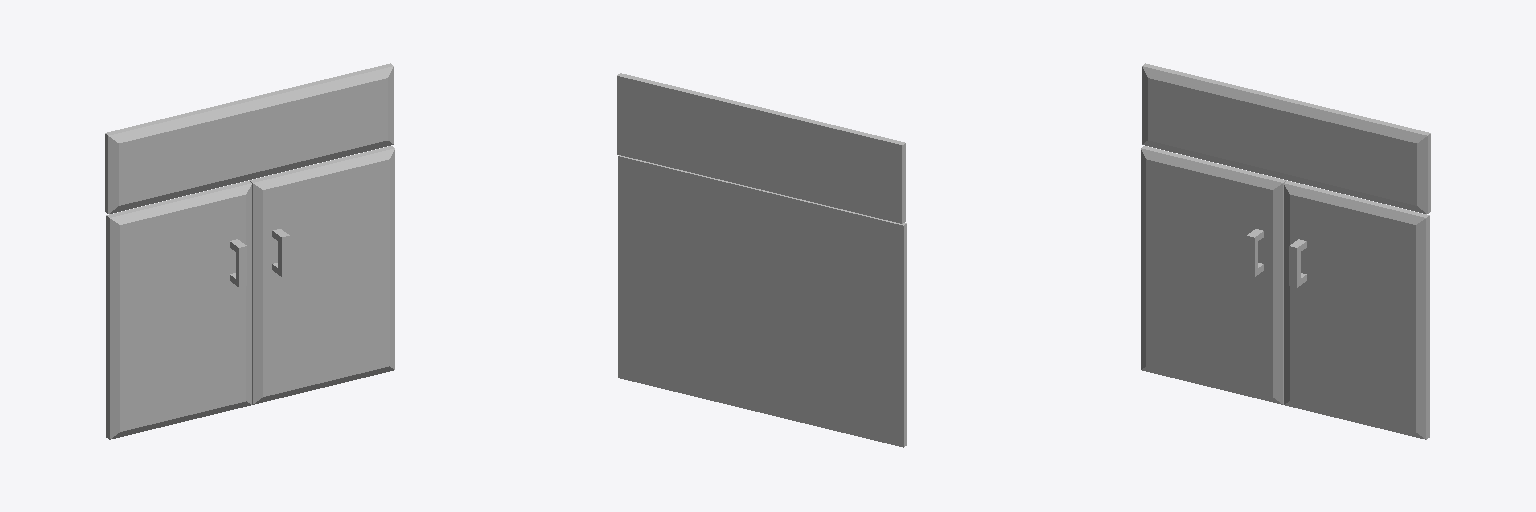
The model's file is kitchen_counter_doors_2.obj.
3 renders of one model, left to right at view 1: azimuth 30°, elevation 25°; view 2: azimuth 150°, elevation 25°; view 3: azimuth 330°, elevation 25°, orthographic.
Size of the model in its own units: 12.96 by 13.14 by 1.32.